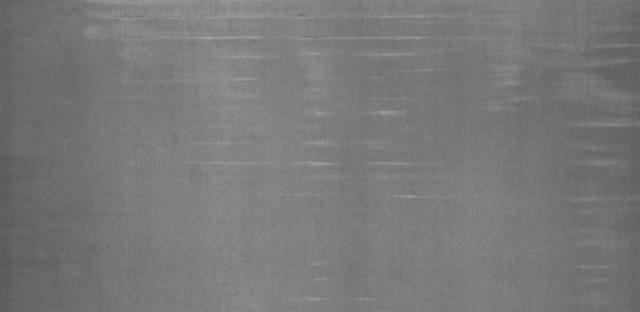waist_folding: (140, 9, 638, 281)
